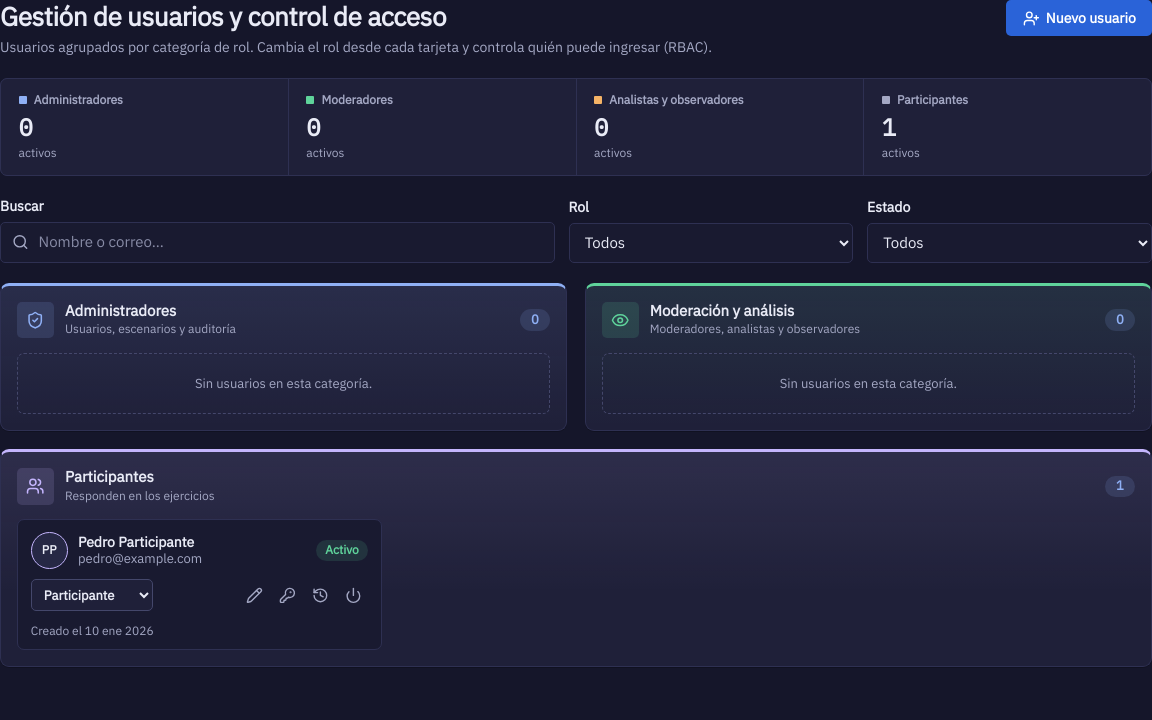
Test: UsuariosPage › cambia el rol desde la tarjeta tras confirmar
Select "Analista" in the dropdown named "Rol de Pedro Participante": [92, 595] box [31,579,153,611]
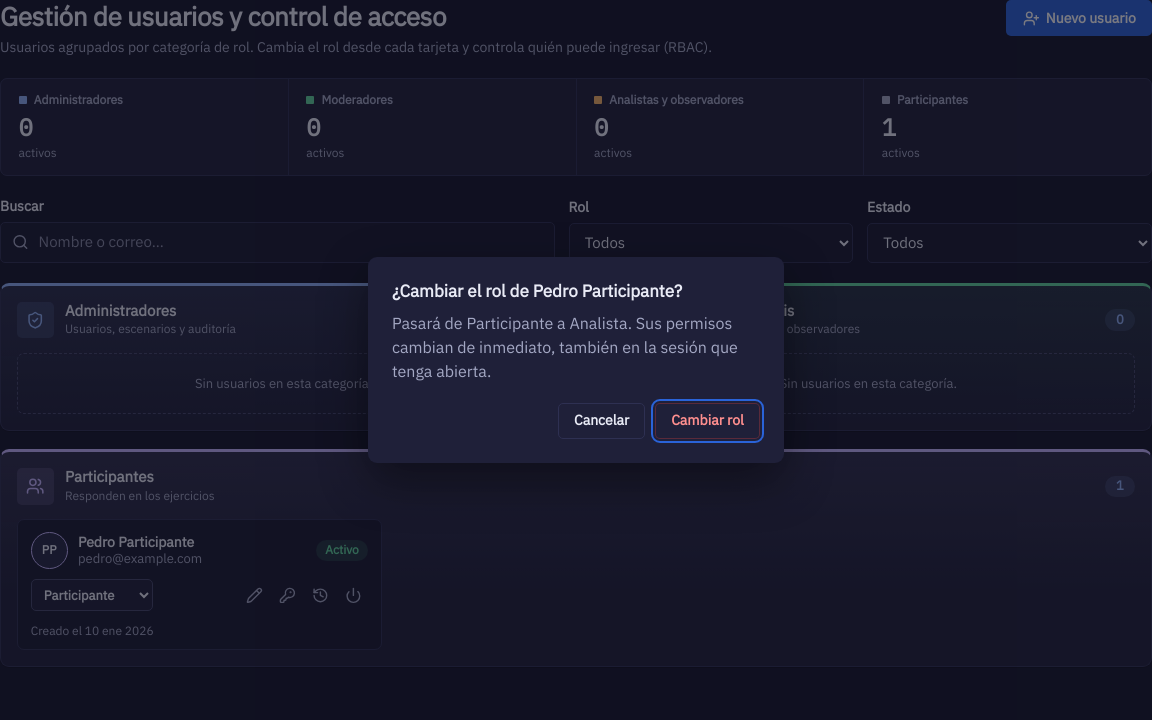
Expected: the dialog shows "Pasará de Participante a Analista", [392,313,738,381]
Click the button "Cambiar rol": [708, 421] box [655,403,760,439]
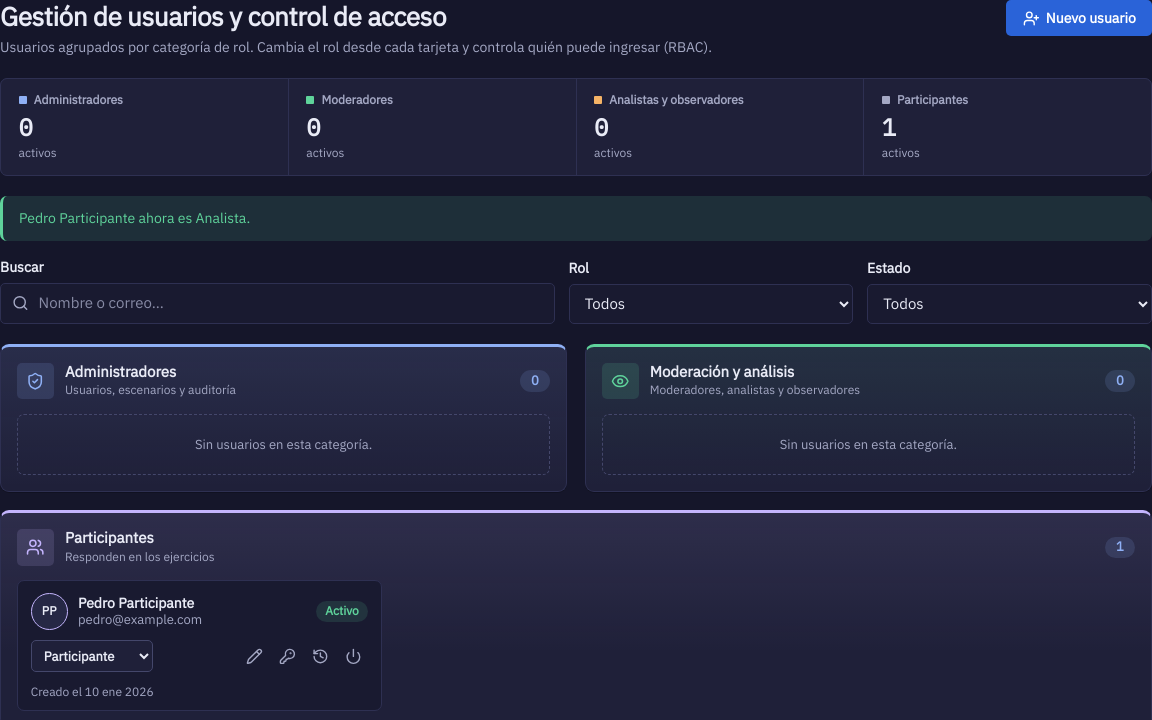
Expected: the text "Pedro Participante ahora es Analista." is shown, [0,196,1151,241]
